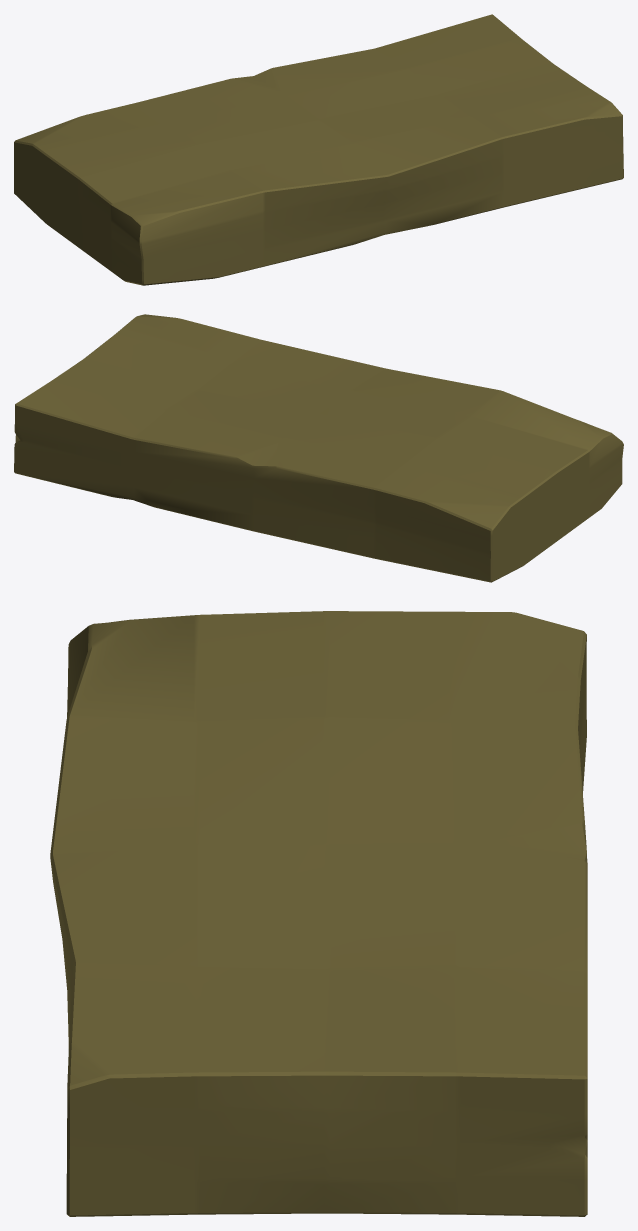
Rendered from plate.fbx.
The picture shows the model from 3 angles, top to bottom: view 1: azimuth 30°, elevation 25°; view 2: azimuth 150°, elevation 25°; view 3: azimuth 270°, elevation 25°; orthographic projection. The views are drawn at different scales.
Visible parts, largest first — view 1: Plate; view 2: Plate; view 3: Plate.
Part boxes in pixels (box(x1,y1,x2,y2)): Plate: box(14, 14, 623, 285); Plate: box(14, 314, 623, 582); Plate: box(50, 611, 587, 1216).
Size of the model in its own units: 371 by 57.38 by 179.
